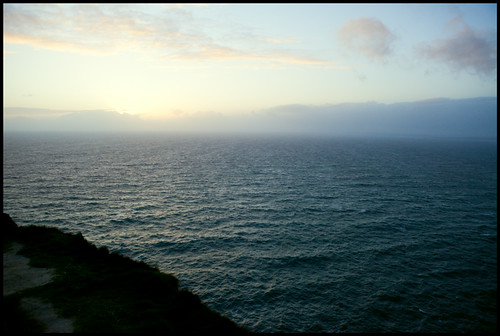sea: (14, 131, 500, 336)
sky: (1, 1, 498, 131)
